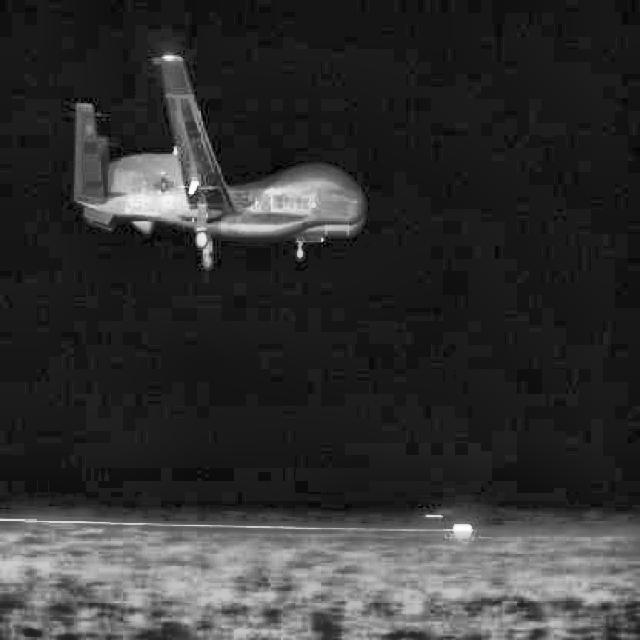RQ4: (70, 55, 368, 272)
